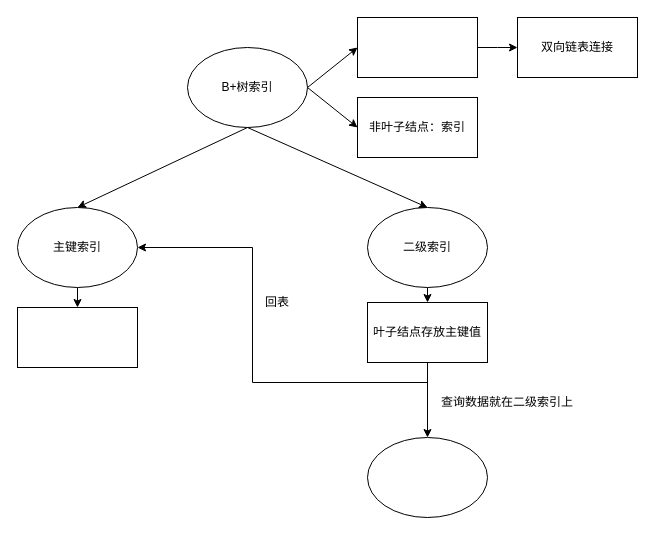
This 655x535 diagram has some shape labels left out. Each missing label, with the box of its shape:
叶子结点存放数据: (16, 306, 138, 368)
叶子结点：数据: (356, 16, 478, 78)
覆盖索引: (366, 436, 488, 518)
